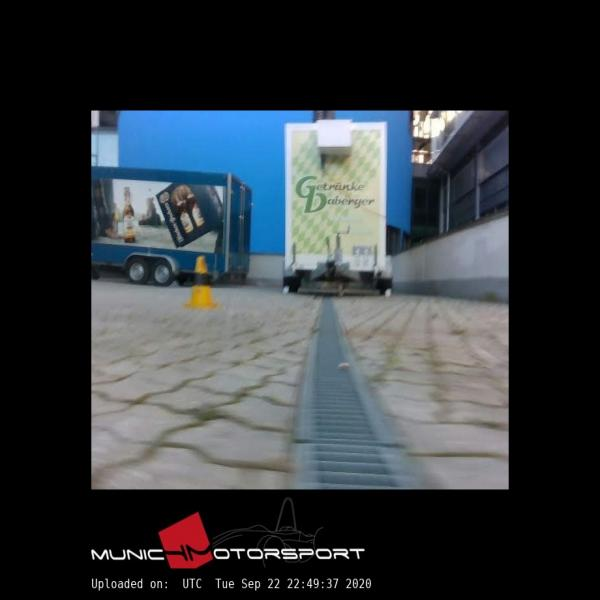yellow_cone: (183, 255, 217, 308)
